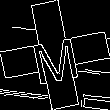M_N: (28, 26, 82, 84)
